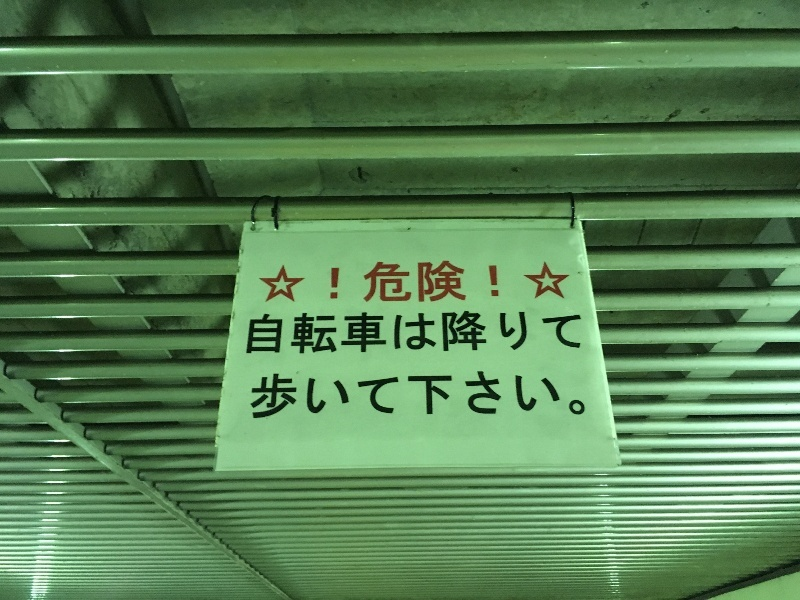text: (257, 370, 272, 419), (273, 370, 288, 419), (289, 370, 304, 419), (305, 370, 320, 419), (321, 370, 336, 419), (337, 370, 352, 419), (353, 370, 368, 419), (369, 370, 384, 419), (385, 370, 400, 419), (401, 370, 416, 419), (417, 370, 432, 419), (433, 370, 448, 419), (449, 370, 464, 419), (465, 370, 480, 419), (481, 370, 496, 419), (497, 370, 512, 419), (513, 370, 528, 419), (529, 370, 544, 419), (545, 370, 560, 419), (561, 370, 576, 419), (337, 259, 352, 304), (353, 259, 368, 304), (369, 259, 384, 304), (385, 259, 400, 304), (401, 259, 416, 304), (417, 259, 432, 304), (433, 259, 448, 304), (449, 259, 464, 304), (465, 259, 480, 304), (481, 259, 496, 304), (257, 311, 272, 354), (273, 311, 288, 354), (289, 311, 304, 354), (305, 311, 320, 354), (321, 311, 336, 354), (337, 311, 352, 354), (353, 311, 368, 354), (369, 311, 384, 354), (385, 311, 400, 354), (401, 311, 416, 354), (417, 311, 432, 354), (433, 311, 448, 354), (449, 311, 464, 354), (465, 311, 480, 354), (481, 311, 496, 354), (497, 311, 512, 354), (513, 311, 528, 354), (529, 311, 544, 354), (545, 311, 560, 354), (561, 311, 576, 354), (577, 370, 586, 419), (577, 311, 584, 354), (330, 259, 336, 304), (251, 311, 256, 354), (252, 370, 256, 419), (497, 259, 500, 304)
